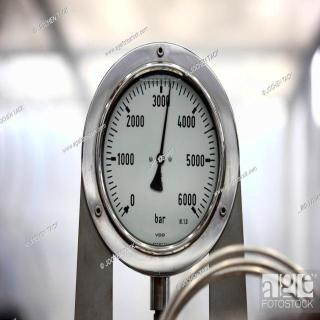gauge: (81, 46, 238, 290), (180, 194, 204, 218), (117, 196, 135, 220), (155, 153, 165, 163), (166, 78, 174, 90)
